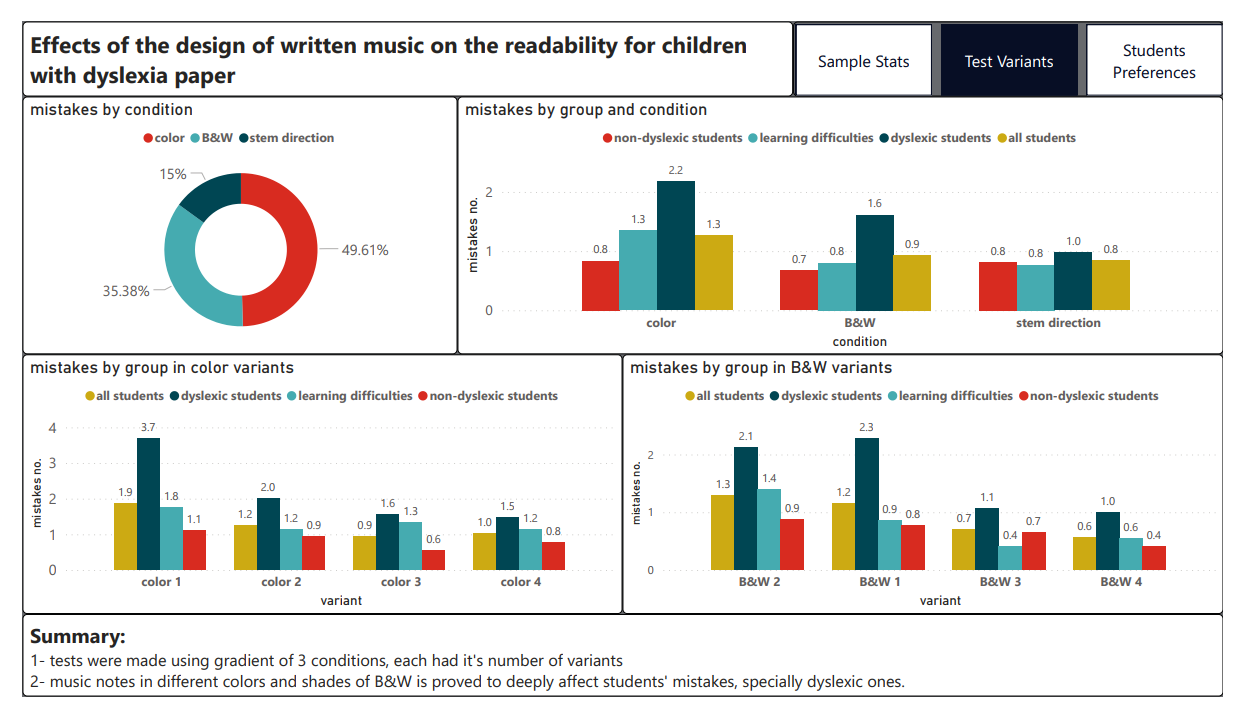

The dashboard page shown, as its layout file describes it:
{"tool":"powerbi","page":{"name":"Test Variants","canvas":[1280,720],"ordinal":1},"visuals":[{"type":"textbox","box":[0,0,822.3,79.9],"z":0},{"type":"pageNavigator","box":[822.3,0,458.3,79.9],"z":1000},{"type":"textbox","box":[0,632.4,1280.5,87.7],"z":2000},{"type":"clusteredColumnChart","title":"mistakes by group and condition","fields":{"Y":["Avg(Test conditions.mean number of mistakes)"],"Series":["Test conditions.group"],"Category":["Test conditions.condition"]},"box":[463.5,79.9,817,275],"z":3000},{"type":"clusteredColumnChart","title":"mistakes by group in color variants","fields":{"Category":["Test conditions.variant"],"Y":["Sum(Test conditions.mean number of mistakes)"],"Series":["Test conditions.group"]},"box":[0,354.8,640.3,277.6],"z":4000},{"type":"clusteredColumnChart","title":"mistakes by group in B&W variants","fields":{"Category":["Test conditions.variant"],"Y":["Avg(Test conditions.mean number of mistakes)"],"Series":["Test conditions.group"]},"box":[640.3,354.8,640.3,277.6],"z":5000},{"type":"donutChart","title":"mistakes by condition","fields":{"Category":["Test conditions.condition"],"Y":["Sum(Test conditions.mean number of mistakes)"]},"box":[0,79.9,463.5,275],"z":6000}]}

Visuals, with their boxes in screenshot pixels (x1, y1, x2, y2), scaled from the page's 1280x720 canvas onto the 1245x719 screenshot:
textbox: locate(0, 0, 800, 80)
pageNavigator: locate(800, 0, 1244, 80)
textbox: locate(0, 632, 1244, 718)
"mistakes by group and condition" clusteredColumnChart: locate(451, 80, 1244, 354)
"mistakes by group in color variants" clusteredColumnChart: locate(0, 354, 623, 632)
"mistakes by group in B&W variants" clusteredColumnChart: locate(623, 354, 1244, 632)
"mistakes by condition" donutChart: locate(0, 80, 451, 354)
